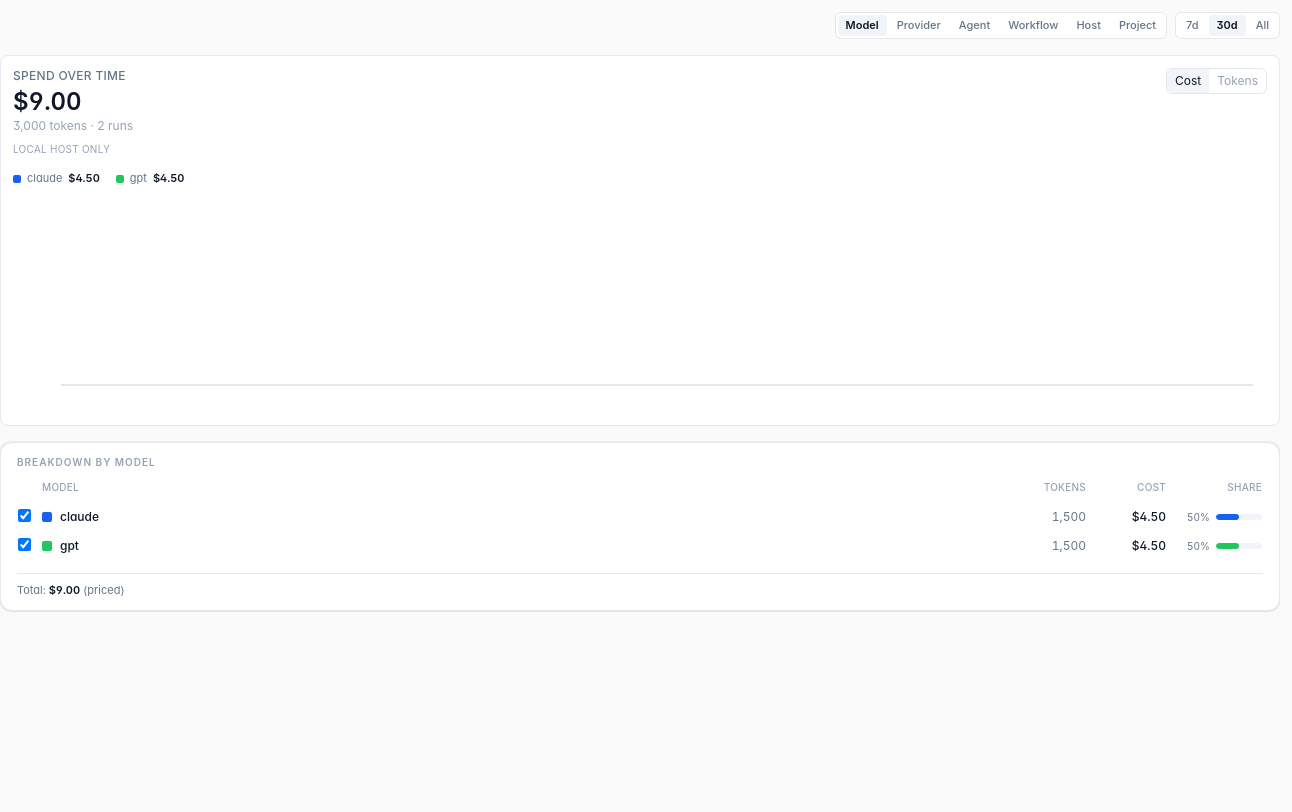
it: ProjectUsageTimeline › toggling a breakdown row excludes it from the graph and shows the exclude chip
The image size is (1292, 812).
Expected: the text "claude" below "local host only" is shown, [27, 171, 62, 185]
Click the checkbox named "claude".
click(24, 515)  # box [18, 508, 31, 522]
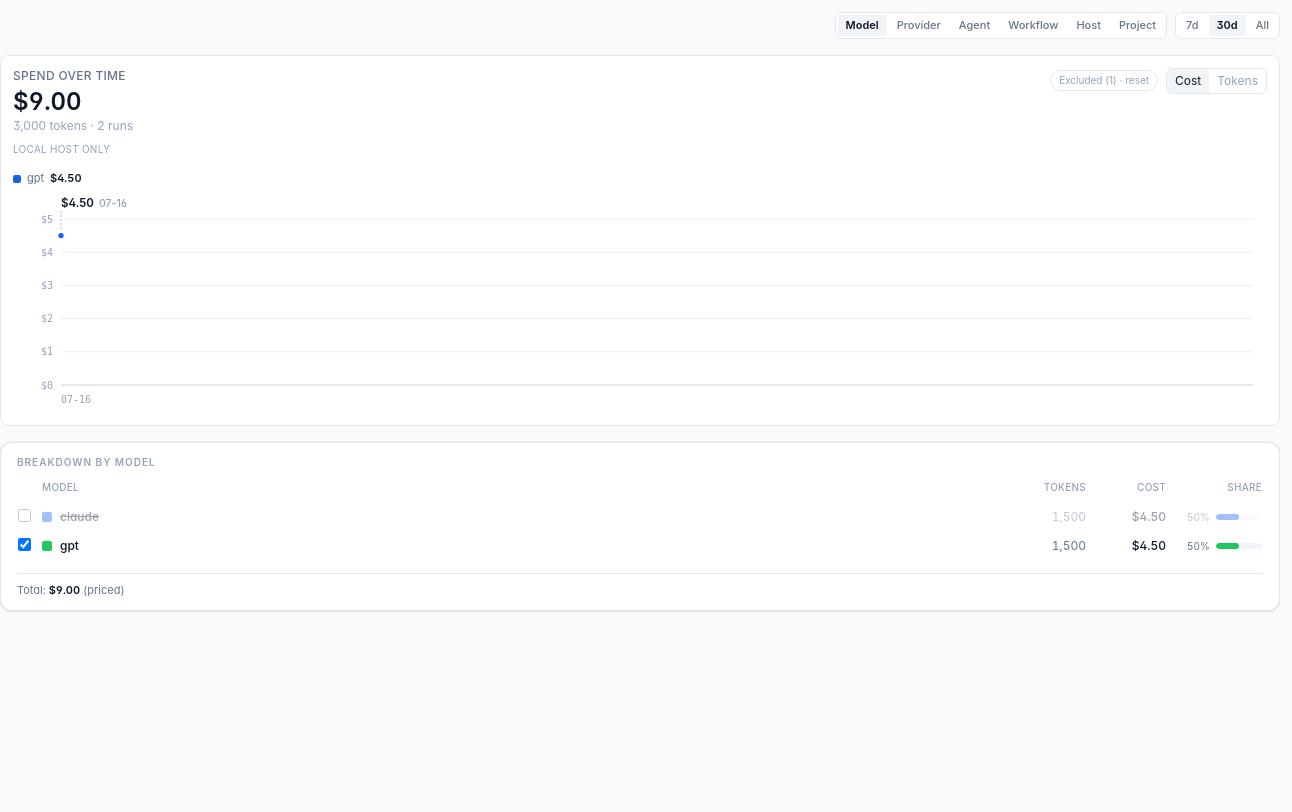
Expected: the text "gpt" below "local host only" is shown, [27, 171, 44, 185]
Expected: the button "Excluded (1) · reset" is shown, [1050, 70, 1158, 91]
